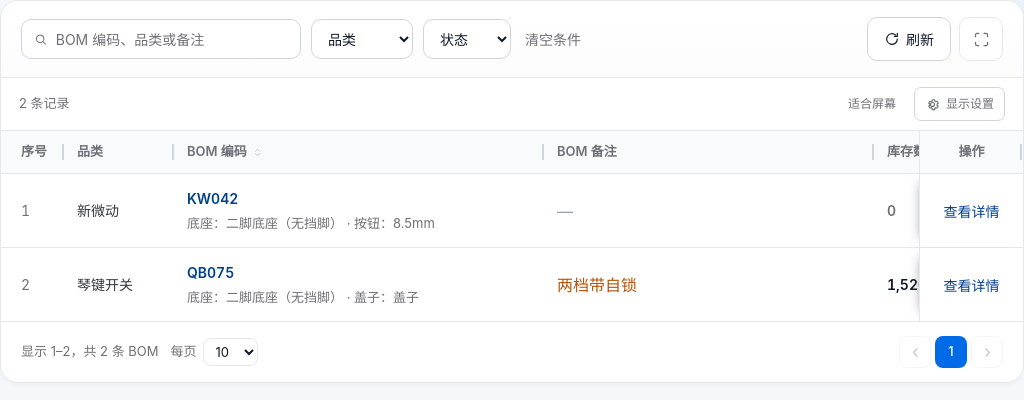
Test: 状态筛选：已用完只留余量为 0，未用完只留余量不为 0，清空条件恢复
The image size is (1024, 400).
Step 1. Select "已用完" in the dropdown named "按库存状态筛选" → (467, 39), box [423,19,511,59]
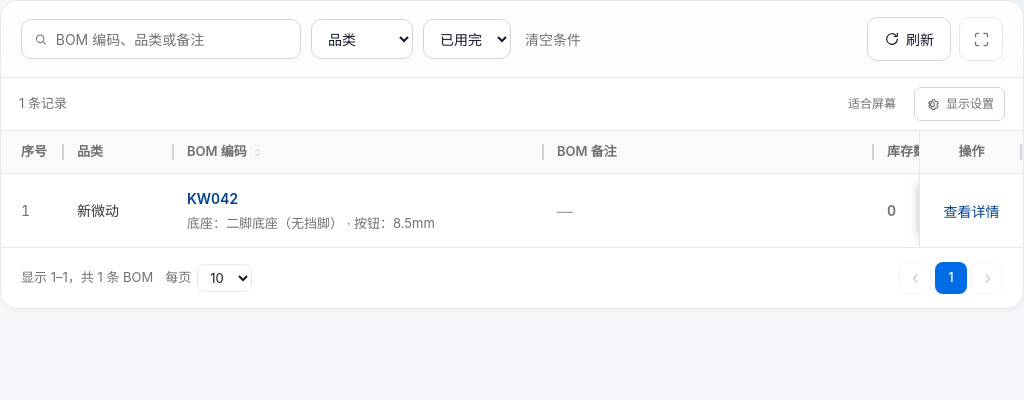
expect the table shows "KW042": met, box [187,188,238,209]
expect the table does not show "QB075": met, box [1,130,1023,247]
Step 2. Select "未用完" in the dropdown named "按库存状态筛选" → (467, 39), box [423,19,511,59]
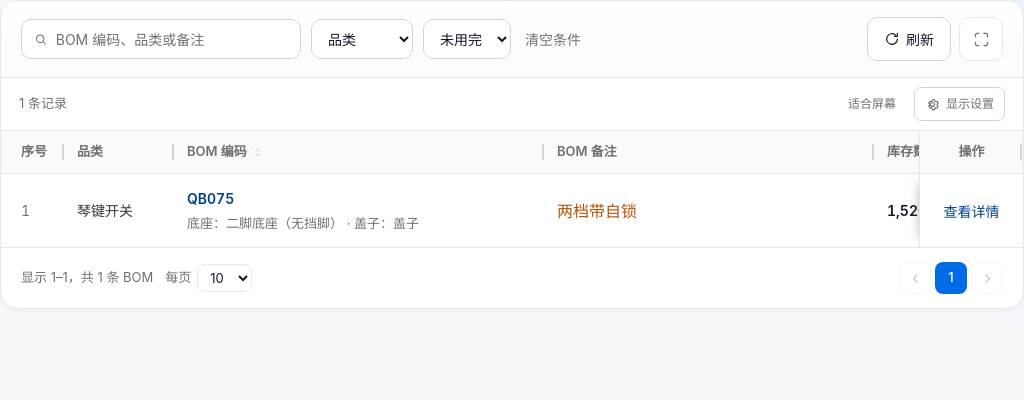
expect the table no longer shows "KW042": met, box [1,130,1023,247]
expect the table shows "QB075": met, box [187,188,234,209]
Step 3. Click the button "清空条件" → (553, 39), box [521,19,585,59]
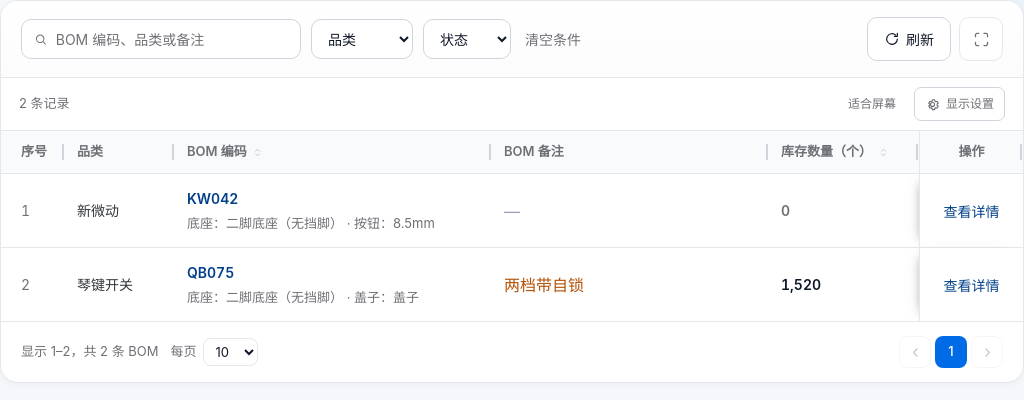
expect the table shows "QB075": met, box [187,262,234,283]
expect the table shows "KW042": met, box [187,188,238,209]
